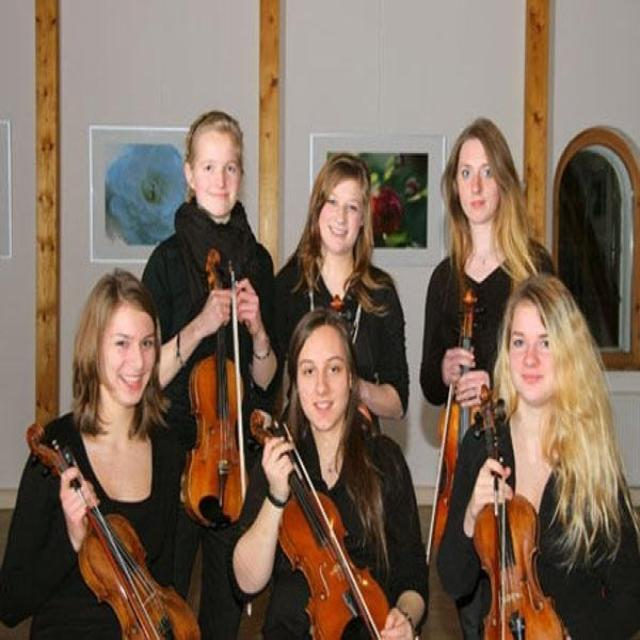violin: (23, 416, 205, 640), (248, 406, 396, 638), (471, 384, 574, 638), (180, 247, 246, 536), (429, 291, 486, 559)
